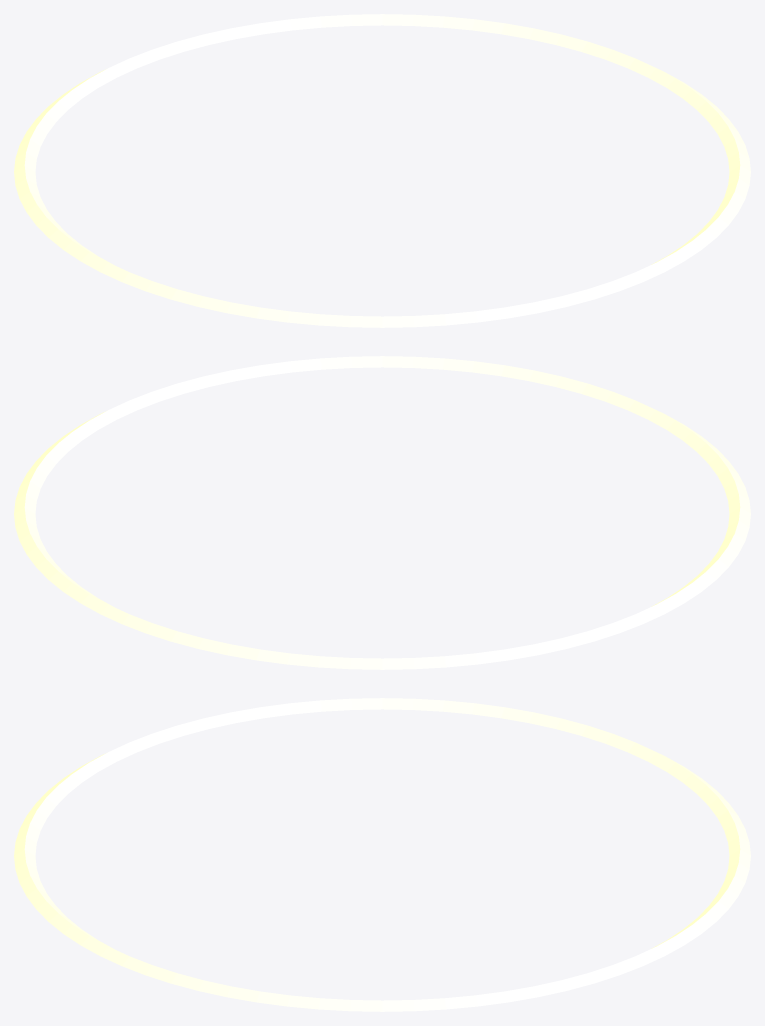
Rendered from ring.glb.
3 renders of one model, top to bottom at view 1: azimuth 30°, elevation 25°; view 2: azimuth 150°, elevation 25°; view 3: azimuth 270°, elevation 25°, orthographic.
Visible parts, largest first — view 1: Ring; view 2: Ring; view 3: Ring.
Part boxes in pixels (left/top/right/bottom): Ring: left=14, top=14, right=750, bottom=327; Ring: left=14, top=356, right=750, bottom=669; Ring: left=14, top=698, right=750, bottom=1011.
Size of the model in its own units: 6.18 by 0.063 by 6.18.
